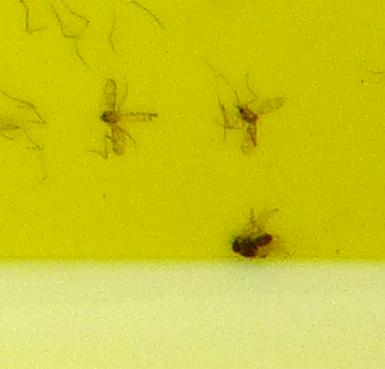Brachycera: (225, 208, 285, 269)
Nematocera: (214, 100, 269, 150), (100, 102, 156, 130)
